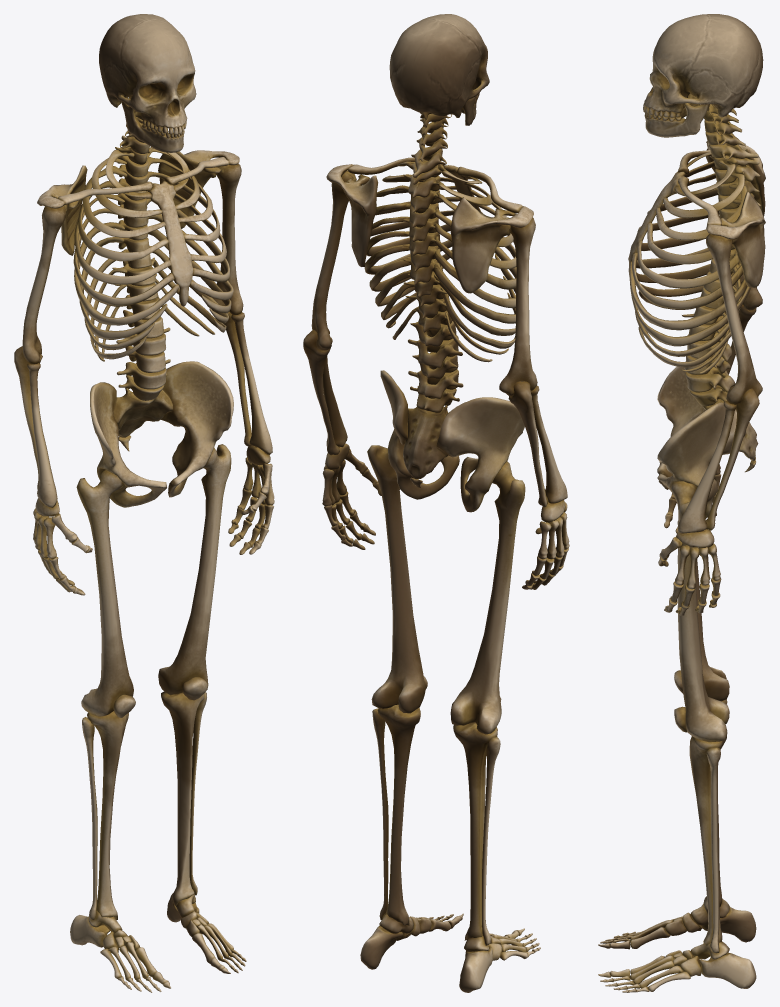
Rendered from realistic_human_skeleton.glb.
3 views of the same model, side by side, from view 1: azimuth 30°, elevation 25°; view 2: azimuth 150°, elevation 25°; view 3: azimuth 270°, elevation 25° (orthographic). The views are drawn at different scales.
Visible parts, largest first — view 1: human_skeleton.1_1_4; view 2: human_skeleton.1_1_4; view 3: human_skeleton.1_1_4.
Boxes of the visible parts, left/top/right/bottom form: human_skeleton.1_1_4: left=14, top=14, right=274, bottom=992; human_skeleton.1_1_4: left=303, top=14, right=569, bottom=992; human_skeleton.1_1_4: left=598, top=14, right=765, bottom=992.
Size of the model in its own units: 0.0677 by 0.2615 by 0.042.
Materials: 1 (1 with a texture image).
